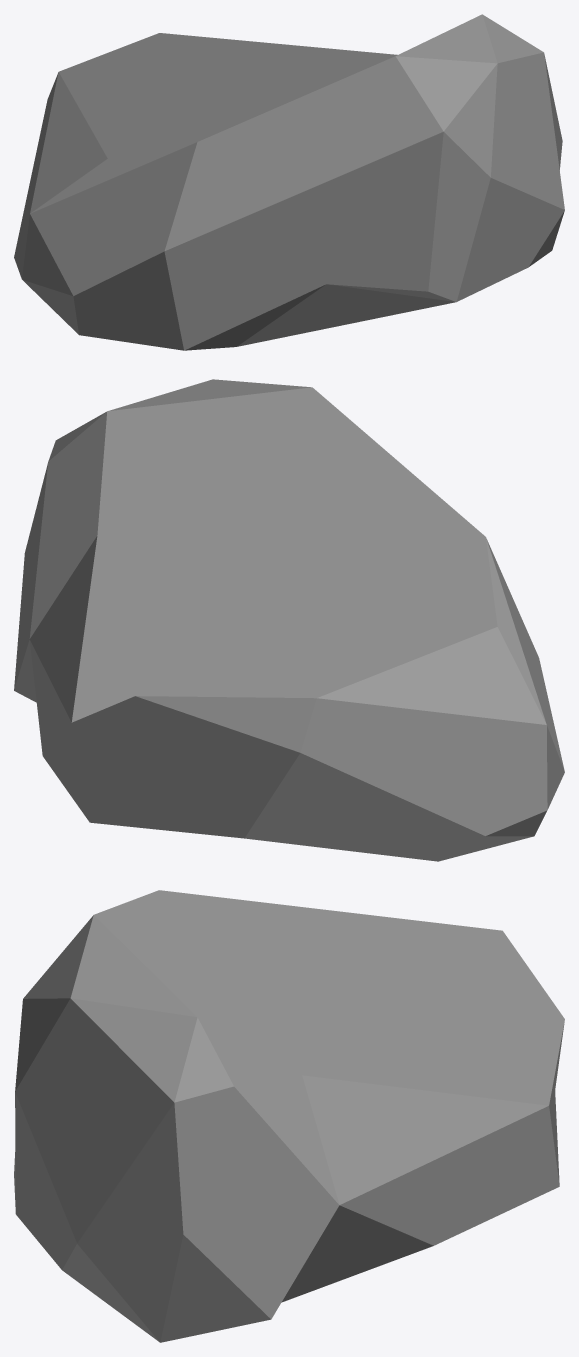
Rendered from EM_Rock01c.fbx.
3 views of the same model, one above another, from view 1: azimuth 30°, elevation 25°; view 2: azimuth 150°, elevation 25°; view 3: azimuth 270°, elevation 25° (orthographic). The views are drawn at different scales.
Parts seen in each view (by area): view 1: EM_Rock01c_LOD0; view 2: EM_Rock01c_LOD0; view 3: EM_Rock01c_LOD0.
Boxes of the visible parts, box(x1,y1,x2,y2) form: EM_Rock01c_LOD0: box(14, 14, 564, 350); EM_Rock01c_LOD0: box(14, 379, 564, 861); EM_Rock01c_LOD0: box(14, 890, 564, 1342).
Size of what is drawn, in the model's own units: 1.08 by 0.5817 by 0.8596.
